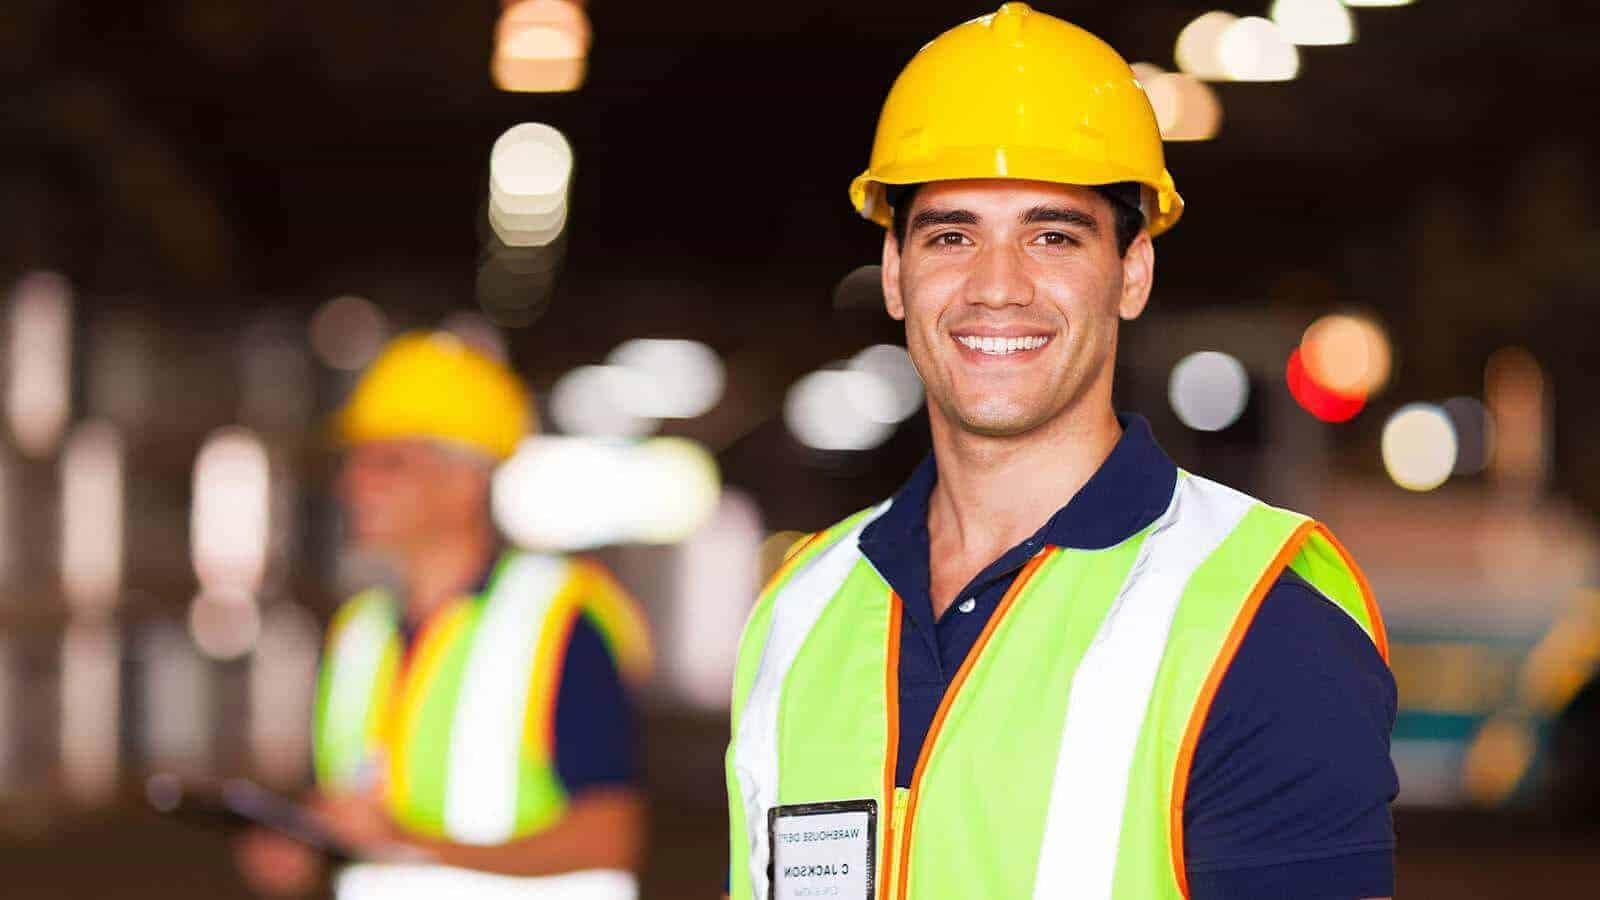helmet: (849, 1, 1186, 235), (327, 325, 533, 465)
